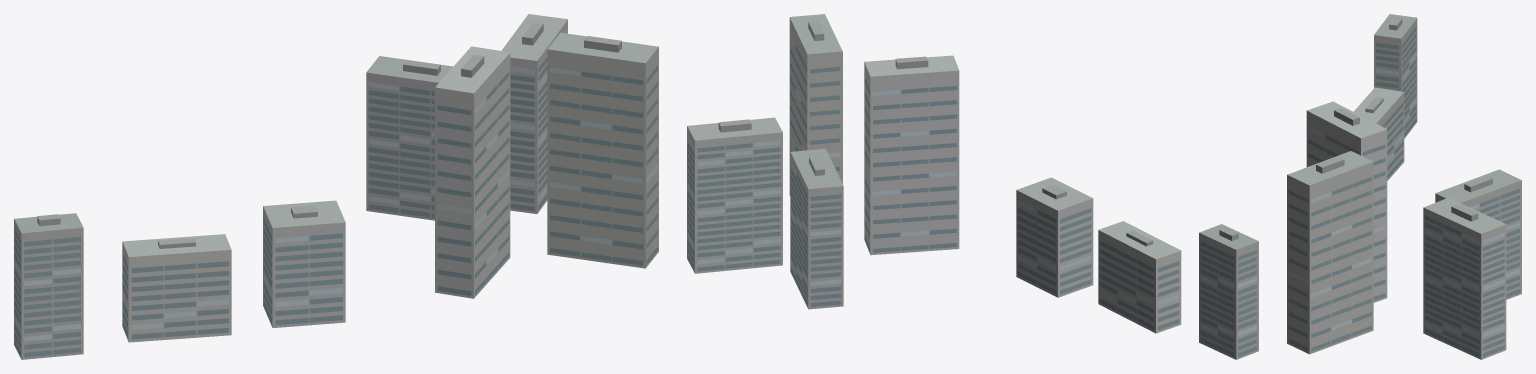
The model's file is apt-a14319009.glb.
3 renders of one model, left to right at view 1: azimuth 30°, elevation 25°; view 2: azimuth 150°, elevation 25°; view 3: azimuth 270°, elevation 25°, orthographic. The views are drawn at different scales.
Parts seen in each view (by area): view 1: apt-a14319009; view 2: apt-a14319009; view 3: apt-a14319009.
Part boxes in pixels (box(x1,y1,x2,y2)): apt-a14319009: box(14, 14, 658, 359); apt-a14319009: box(687, 14, 1258, 359); apt-a14319009: box(1287, 14, 1521, 359).
Bounding box in the file's own units: 204 × 69 × 83.89.
